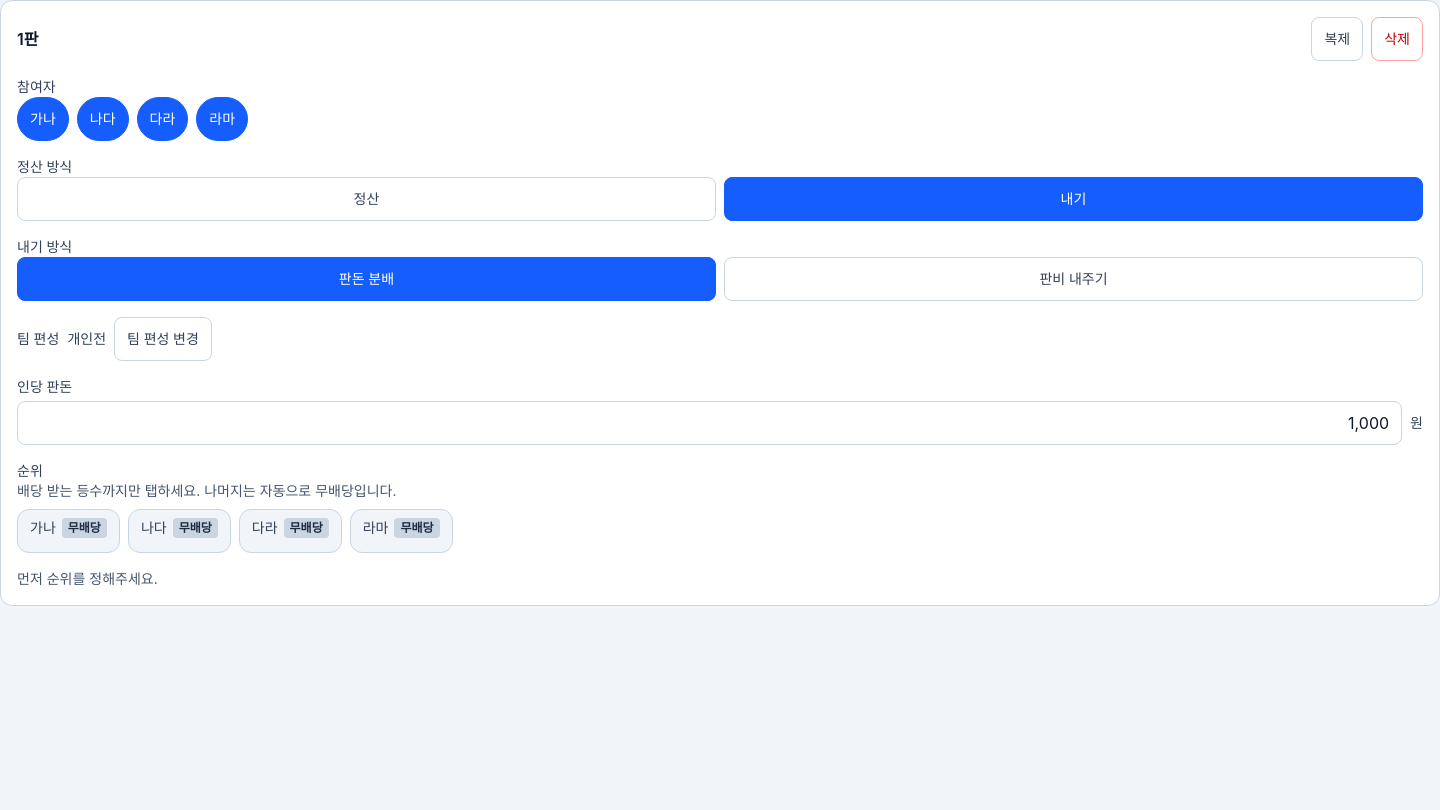
Test: RoundCard › 팀 편성 변경 버튼으로 TeamSheet를 연다
Step 1. Click the button "팀 편성 변경" → (163, 339), box top-left (114, 317), bottom-right (212, 361)
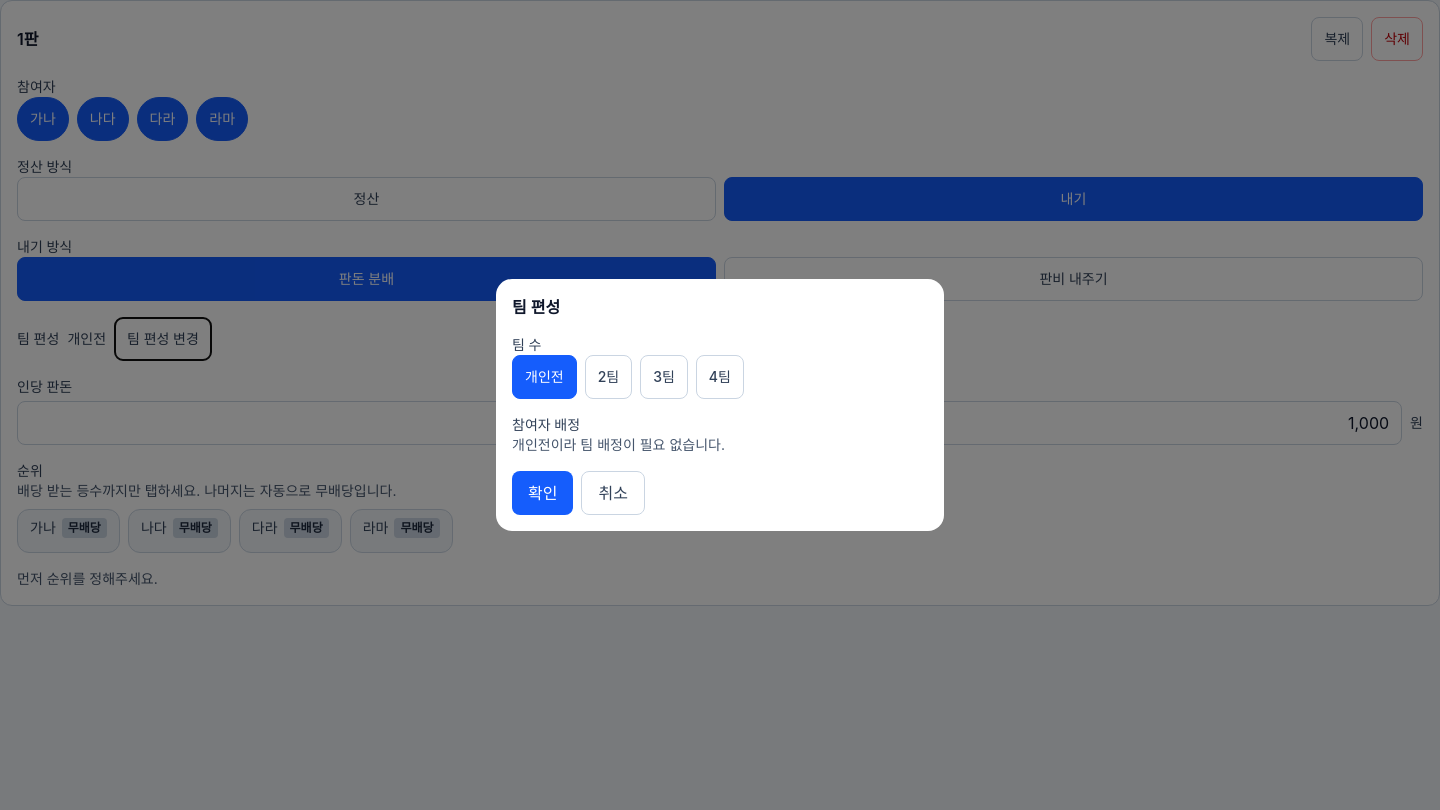
Expected: the dialog "팀 편성" is shown, top-left (496, 279), bottom-right (944, 531)
